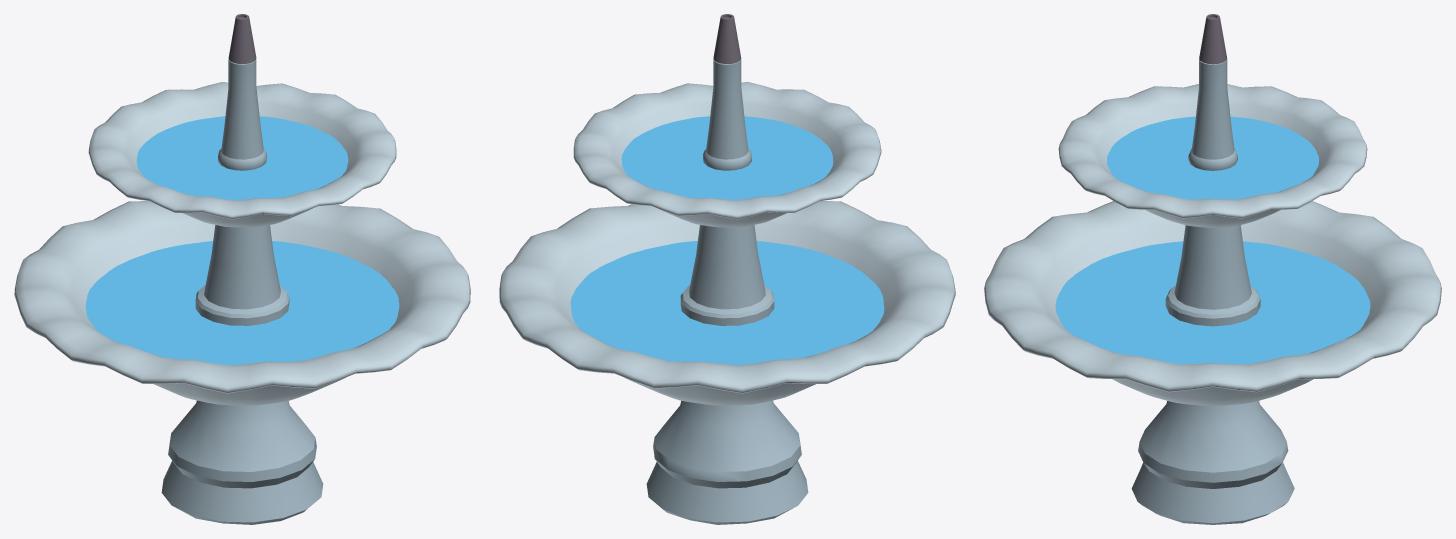
File: Fountain_02.fbx
3 renders of one model, left to right at view 1: azimuth 30°, elevation 25°; view 2: azimuth 150°, elevation 25°; view 3: azimuth 270°, elevation 25°, orthographic.
Visible parts, largest first — view 1: polySurface54, polySurface41, polySurface47, polySurface48, polySurface55, polySurface42; view 2: polySurface54, polySurface41, polySurface47, polySurface48, polySurface55, polySurface42; view 3: polySurface54, polySurface41, polySurface47, polySurface48, polySurface55, polySurface42.
Part boxes in pixels (left/top/right/bottom): polySurface54: left=14, top=201, right=470, bottom=405; polySurface41: left=161, top=59, right=323, bottom=524; polySurface47: left=85, top=241, right=399, bottom=365; polySurface48: left=88, top=82, right=396, bottom=227; polySurface55: left=136, top=116, right=348, bottom=200; polySurface42: left=228, top=14, right=256, bottom=63; polySurface54: left=499, top=201, right=955, bottom=405; polySurface41: left=646, top=58, right=808, bottom=524; polySurface47: left=570, top=241, right=884, bottom=365; polySurface48: left=573, top=82, right=881, bottom=227; polySurface55: left=621, top=116, right=833, bottom=200; polySurface42: left=713, top=14, right=741, bottom=63; polySurface54: left=984, top=201, right=1441, bottom=406; polySurface41: left=1131, top=59, right=1294, bottom=524; polySurface47: left=1055, top=241, right=1370, bottom=364; polySurface48: left=1058, top=84, right=1367, bottom=227; polySurface55: left=1107, top=116, right=1318, bottom=199; polySurface42: left=1199, top=14, right=1227, bottom=64.
Bounding box in the file's own units: 184 × 213 × 184.
2 materials, 2 textured.
